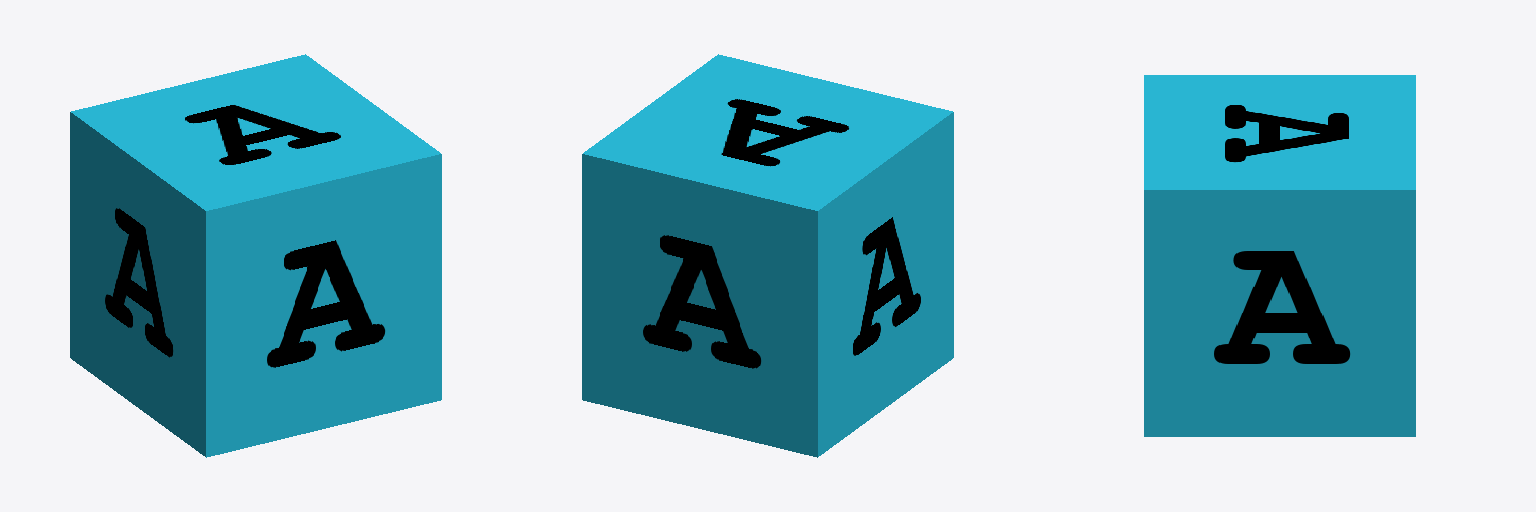
The picture shows the model from 3 angles: view 1: azimuth 30°, elevation 25°; view 2: azimuth 150°, elevation 25°; view 3: azimuth 270°, elevation 25°; orthographic projection.
Visible parts, largest first — view 1: cube; view 2: cube; view 3: cube.
Part boxes in pixels (x1,y1,x2,y2): cube: (70, 54, 441, 457); cube: (582, 54, 953, 457); cube: (1144, 75, 1415, 436).
Size of the model in its own units: 1 by 1 by 1.
1 materials, 1 textured.